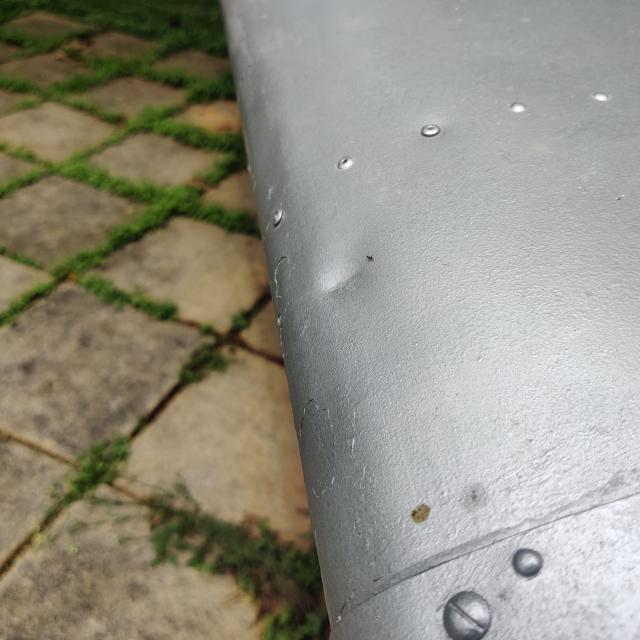dent: (294, 229, 396, 327)
